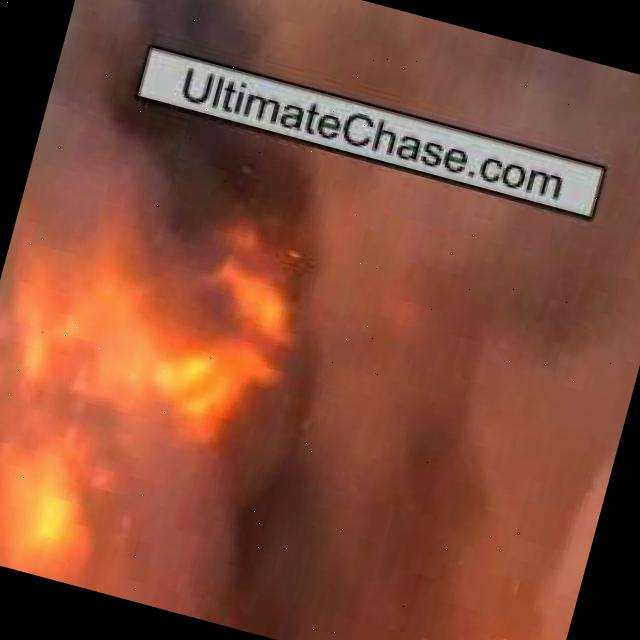fire: (0, 72, 361, 628)
